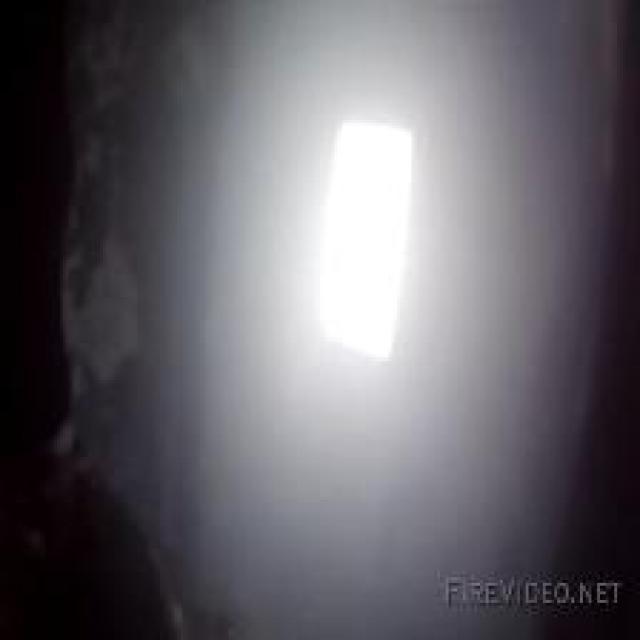other: (296, 44, 414, 379)
